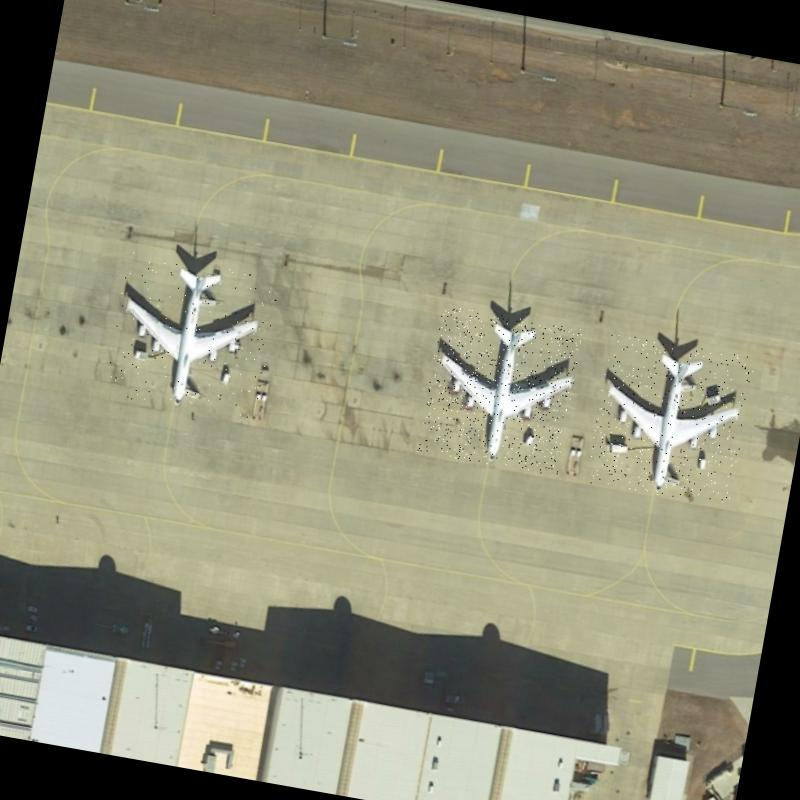A11: (99, 249, 280, 421), (586, 333, 756, 508), (417, 305, 583, 476)
